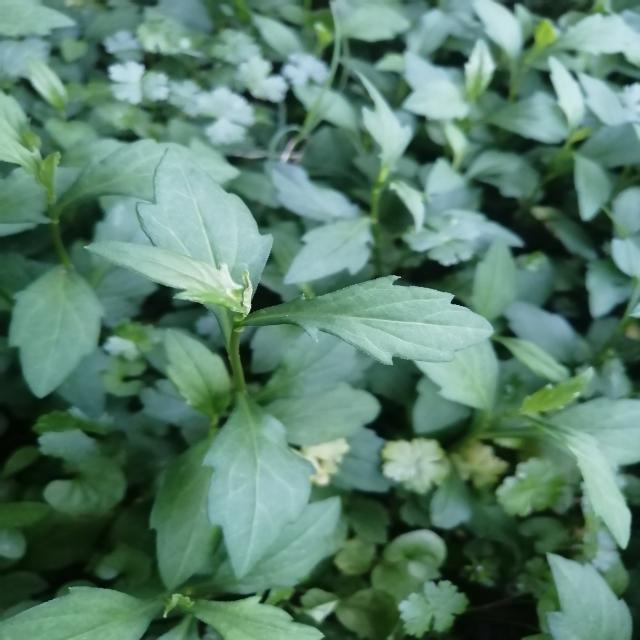Indian aster: (103, 171, 467, 531)
